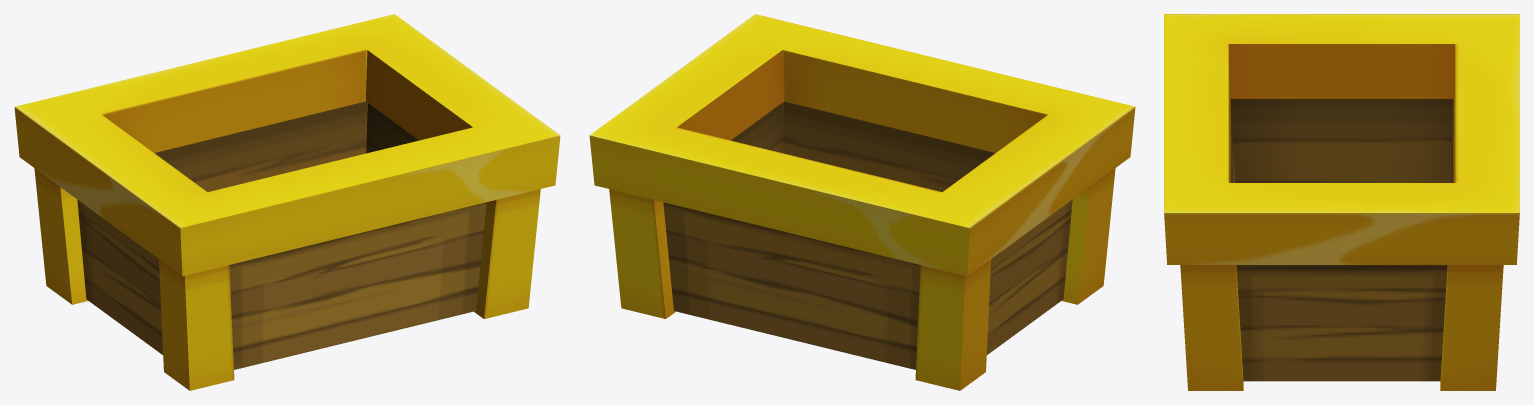
The model's file is Dg_01_TreasureBox_001.FBX.
3 renders of one model, left to right at view 1: azimuth 30°, elevation 25°; view 2: azimuth 150°, elevation 25°; view 3: azimuth 270°, elevation 25°, orthographic. The views are drawn at different scales.
Parts seen in each view (by area): view 1: Dg_01_TreasureBox_001; view 2: Dg_01_TreasureBox_001; view 3: Dg_01_TreasureBox_001.
Boxes of the visible parts, box(x1,y1,x2,y2) form: Dg_01_TreasureBox_001: box(14, 14, 560, 390); Dg_01_TreasureBox_001: box(589, 14, 1135, 390); Dg_01_TreasureBox_001: box(1164, 14, 1519, 390).
Size of the model in its own units: 1.83 by 0.8091 by 1.38.
